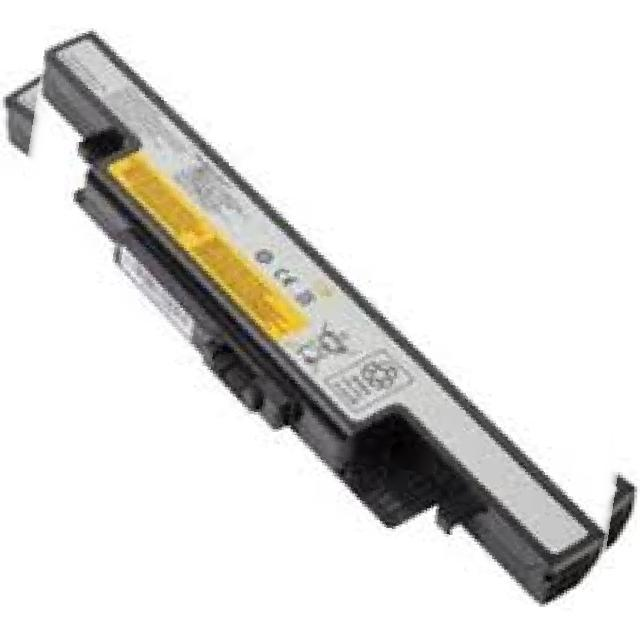Battery: (43, 25, 605, 630)
